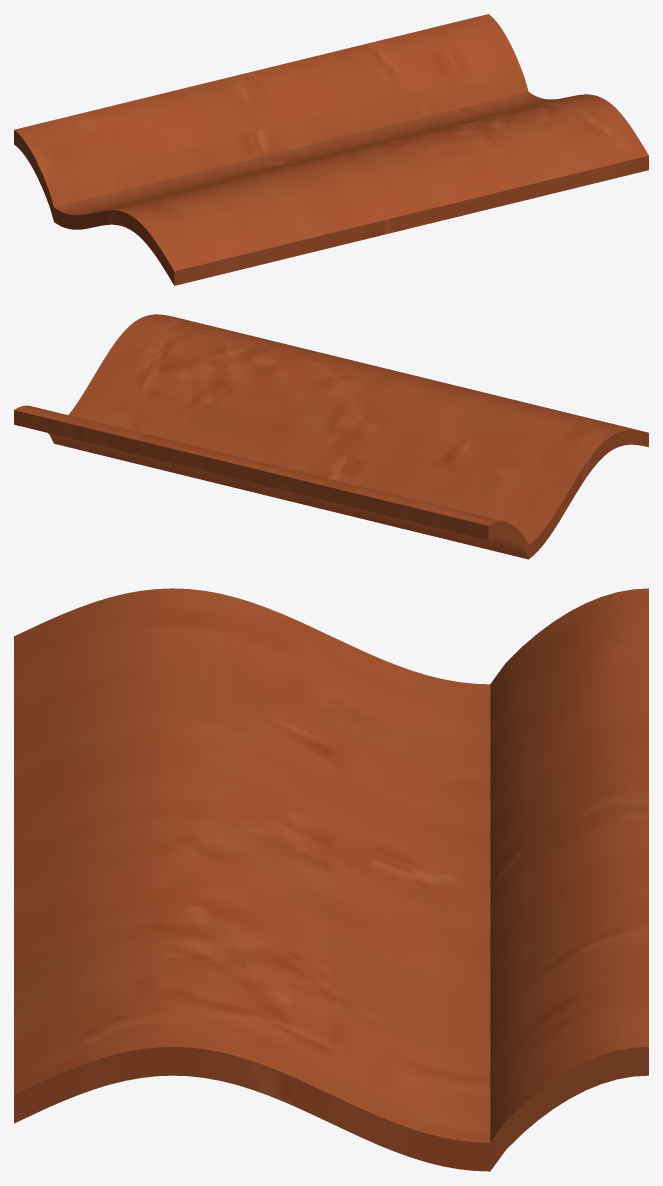
The model's file is COB-CER-002_lod1.glb.
3 renders of one model, top to bottom at view 1: azimuth 30°, elevation 25°; view 2: azimuth 150°, elevation 25°; view 3: azimuth 270°, elevation 25°, orthographic. The views are drawn at different scales.
Visible parts, largest first — view 1: COB-CER-002_telha; view 2: COB-CER-002_telha; view 3: COB-CER-002_telha.
Boxes of the visible parts, x1,y1,x2,y2 form: COB-CER-002_telha: (14, 14, 648, 285); COB-CER-002_telha: (14, 314, 648, 559); COB-CER-002_telha: (14, 588, 648, 1171).
Bounding box in the file's own units: 0.41 × 0.052 × 0.24.
Materials: 1 (1 with a texture image).
